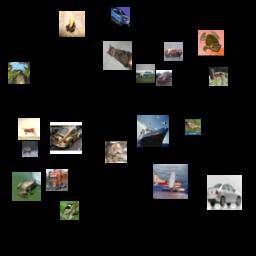airplane: (153, 164, 188, 199), (18, 118, 40, 140), (136, 64, 155, 83)
automobile: (207, 175, 242, 210), (50, 122, 82, 154), (111, 7, 130, 26), (156, 70, 172, 86)
bird: (8, 62, 30, 84), (60, 201, 79, 220), (185, 119, 201, 135)
cat: (103, 41, 132, 70), (105, 141, 127, 163)
deer: (209, 67, 228, 86), (22, 141, 38, 157)
frog: (12, 172, 41, 201), (59, 11, 85, 37), (198, 30, 224, 56)
ship: (137, 115, 169, 147), (164, 42, 183, 61)
truck: (46, 169, 68, 191)
